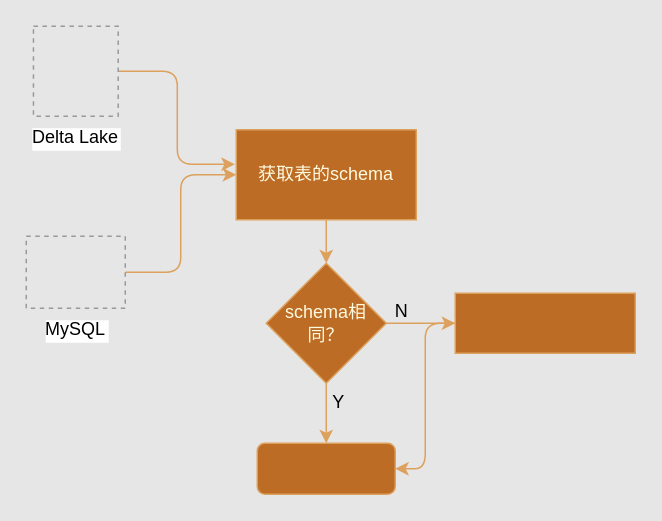
The diagram is 662 pixels wide and 521 high, and some of its shapes have lost their labels. Grey dashed boxes stand in for pictures. Each missing label, with the box of its shape:
发出PD告警，尝试自动修复数据: (454, 292, 635, 353)
结束: (256, 442, 395, 494)
